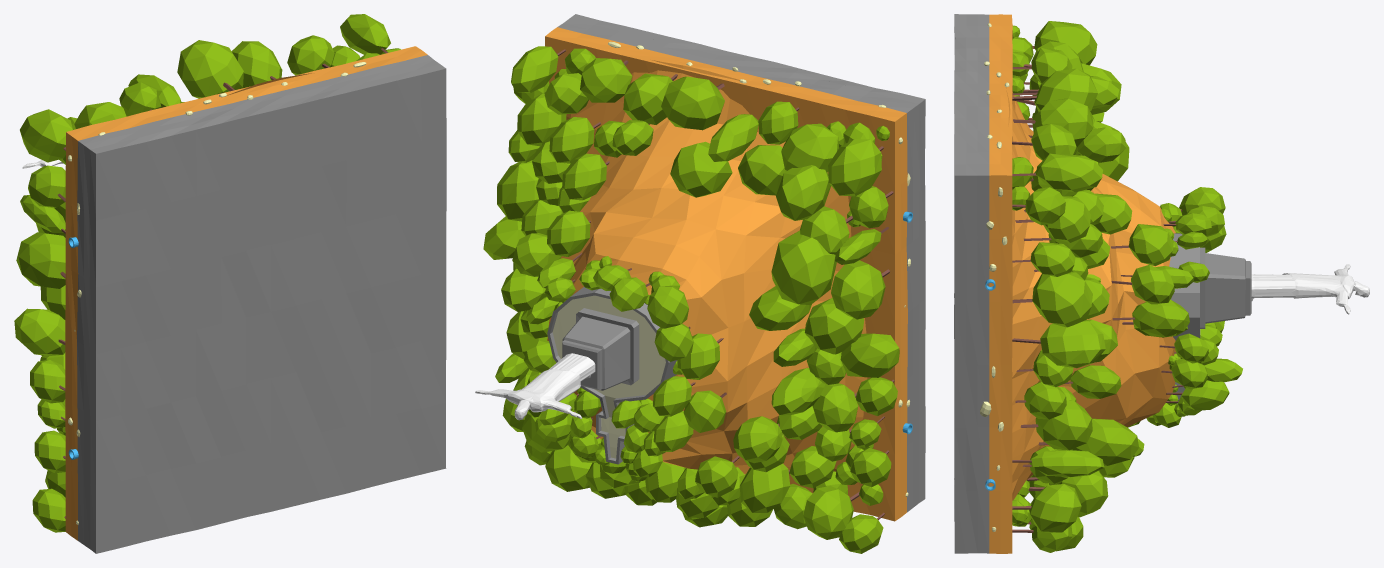
File: cristoRedentor.fbx
The picture shows the model from 3 angles, left to right: view 1: azimuth 30°, elevation 25°; view 2: azimuth 150°, elevation 25°; view 3: azimuth 270°, elevation 25°; orthographic projection. The views are drawn at different scales.
Parts seen in each view (by area): view 1: Object056; view 2: Object056; view 3: Object056.
Boxes of the visible parts, x1,y1,x2,y2 form: Object056: (14,14,446,553); Object056: (475,14,925,553); Object056: (954,14,1369,553).
Size of the model in its own units: 11543 by 12443 by 11035.
